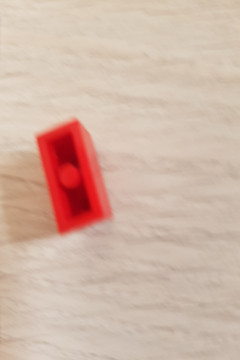1x2 red: (35, 119, 115, 236)
